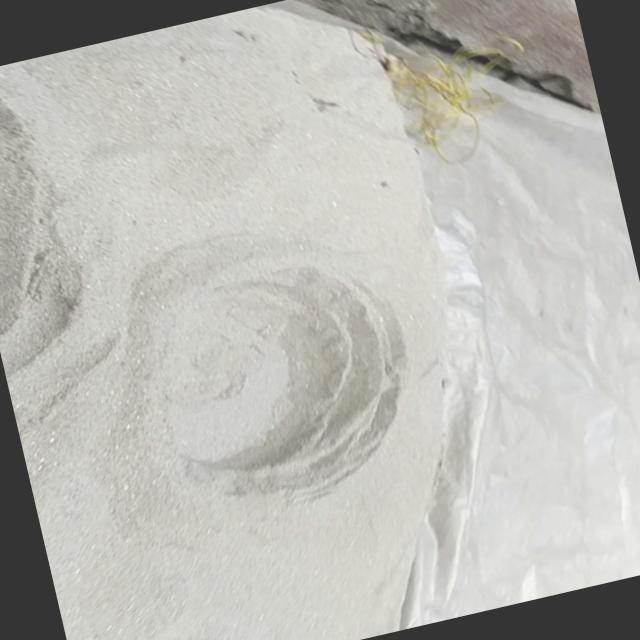C20: (166, 268, 401, 500)
